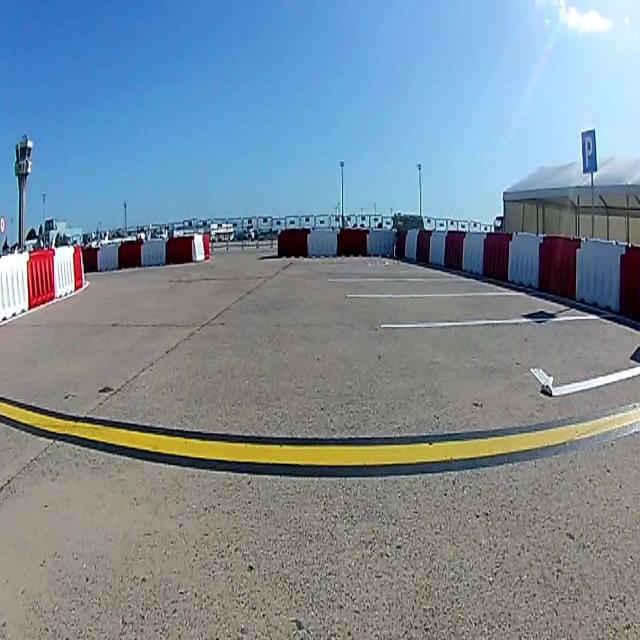park: (581, 130, 598, 175)
